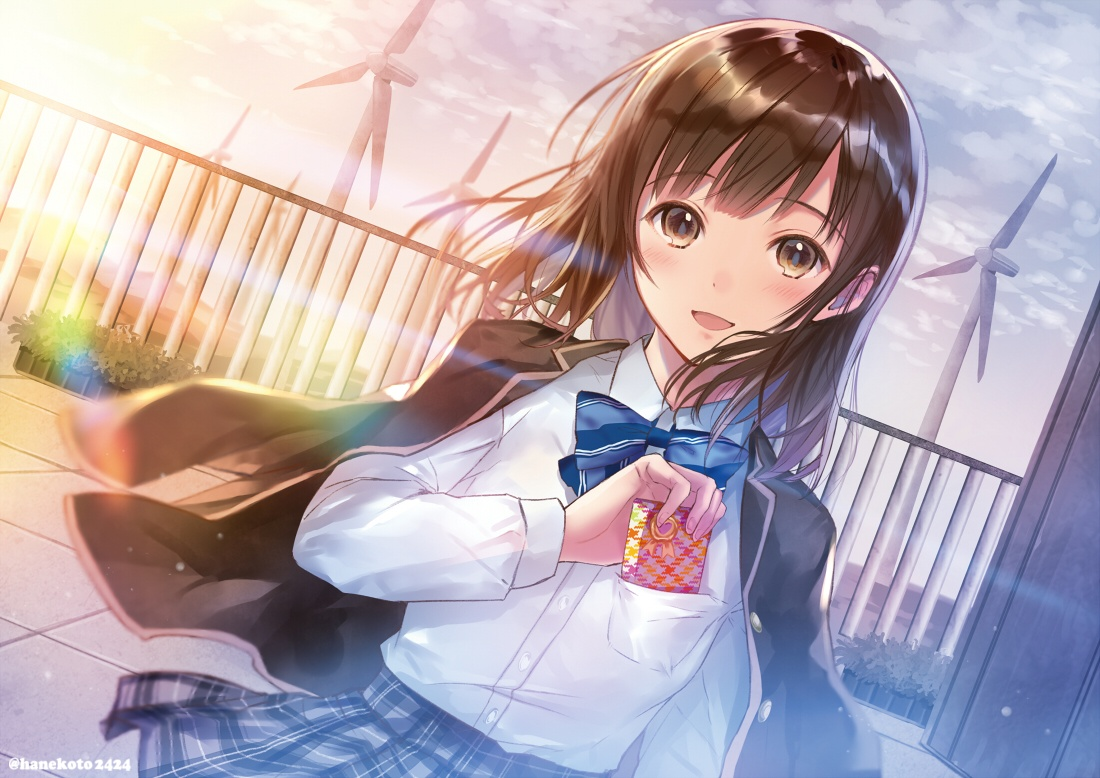纸片人正脸: (555, 12, 925, 367)
